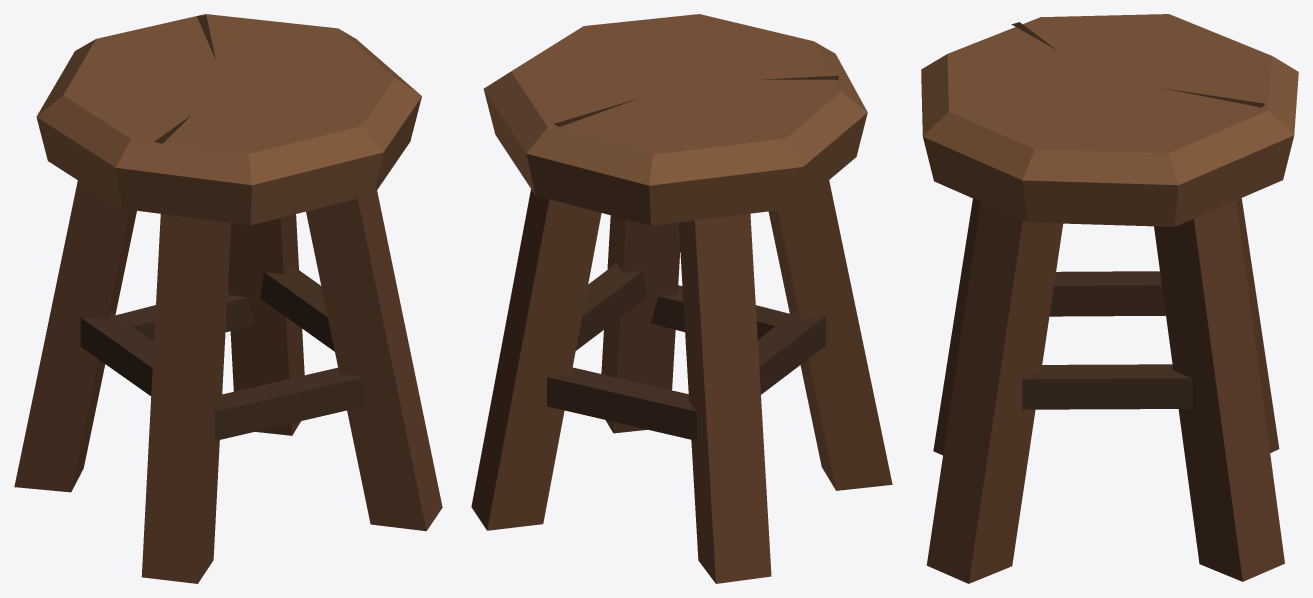
File: tl_furn_stool_v01.glb
The picture shows the model from 3 angles, left to right: view 1: azimuth 30°, elevation 25°; view 2: azimuth 150°, elevation 25°; view 3: azimuth 270°, elevation 25°; orthographic projection. The views are drawn at different scales.
Parts seen in each view (by area): view 1: tl_furn_stool_v01; view 2: tl_furn_stool_v01; view 3: tl_furn_stool_v01.
Part boxes in pixels (bbox=[...]): tl_furn_stool_v01: bbox=[14, 14, 442, 583]; tl_furn_stool_v01: bbox=[471, 14, 892, 583]; tl_furn_stool_v01: bbox=[921, 14, 1298, 583].
Size of the model in its own units: 0.3422 by 0.4215 by 0.3371.
